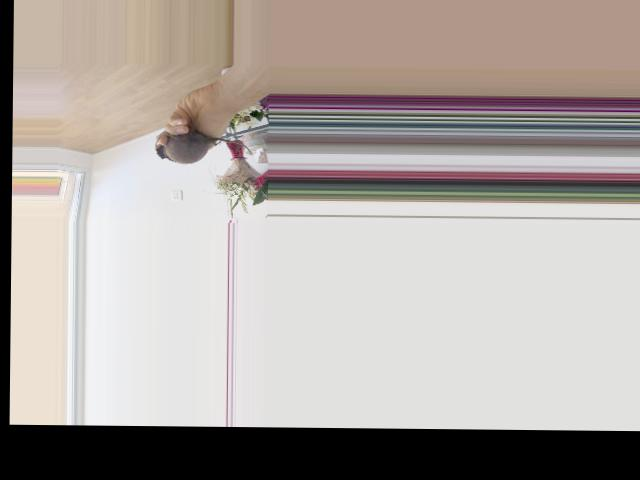beet: (154, 130, 251, 164)
